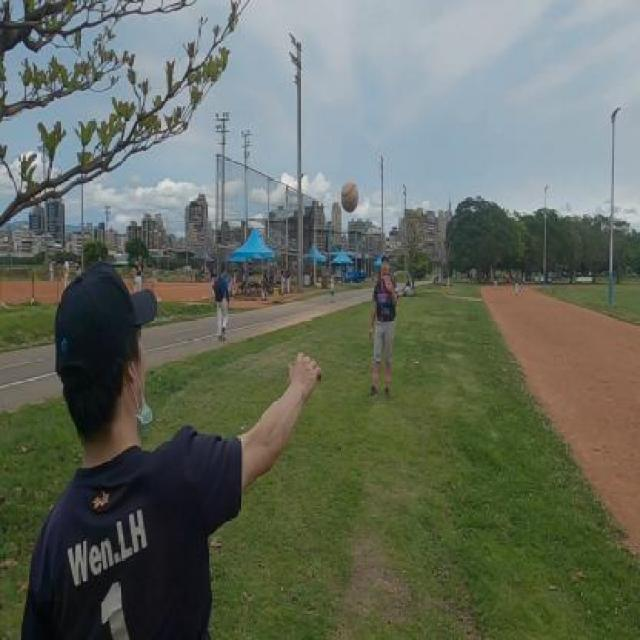baseball: (340, 179, 360, 212)
